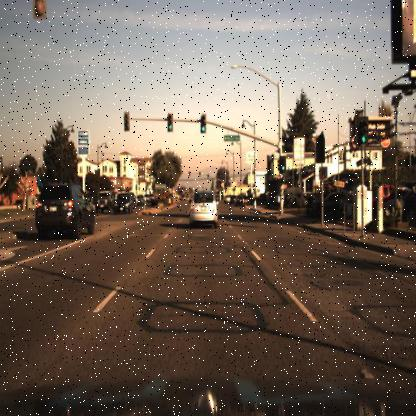car: (33, 181, 96, 239), (187, 188, 219, 229), (317, 189, 357, 217), (112, 193, 134, 218), (97, 185, 111, 219), (275, 190, 291, 206), (234, 194, 245, 208)
trafficLight: (123, 110, 131, 134)
trafficLight-Green: (199, 110, 208, 135), (279, 154, 287, 174), (167, 115, 173, 136)
